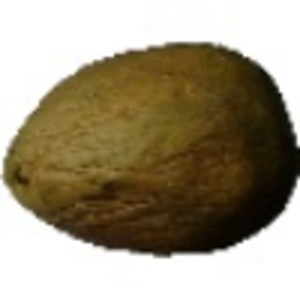mamão: (3, 24, 294, 254)
